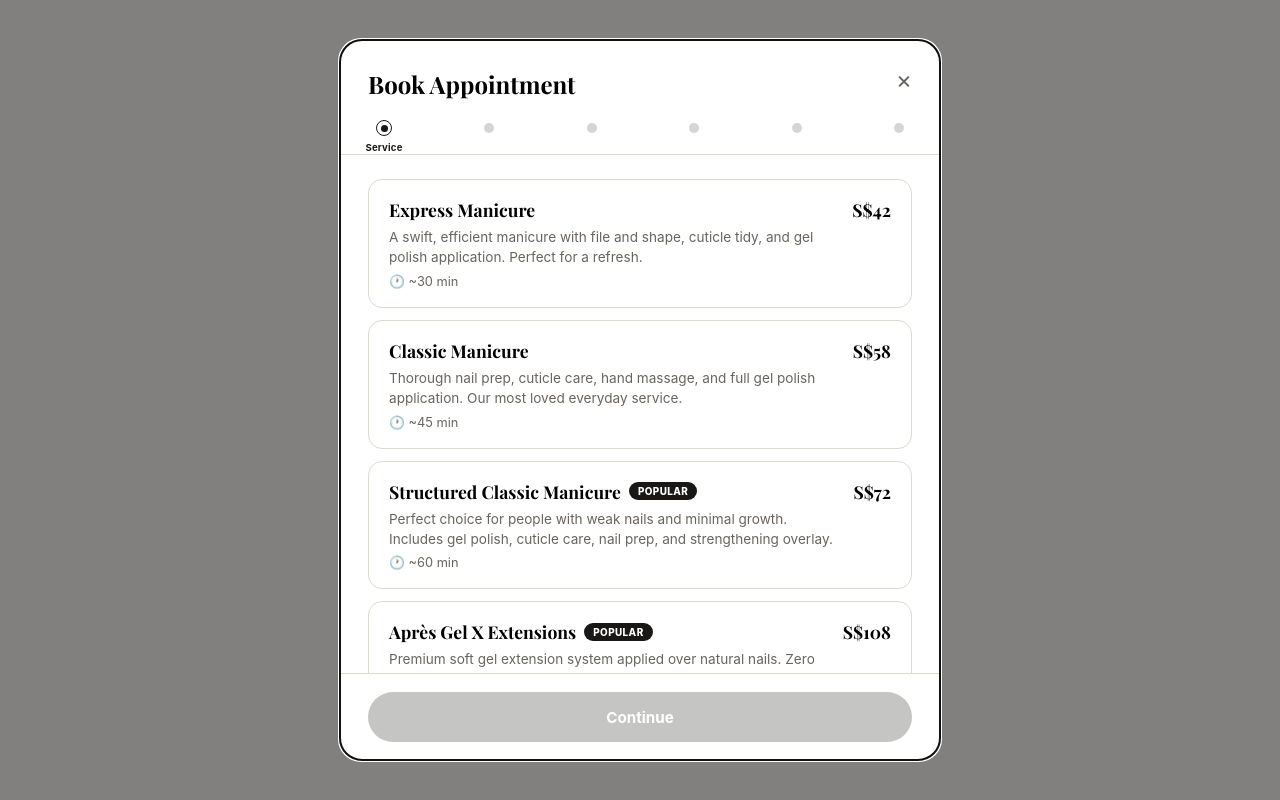
Test: BookingModal — step gating (canContinue) › cannot continue from step 0 until a service is selected
Expected: the button "Continue" is disabled, x1=368 y1=692 x2=912 y2=742
Click the button "Classic Manicure" at {"x": 640, "y": 384}, box x1=368 y1=320 x2=912 y2=449
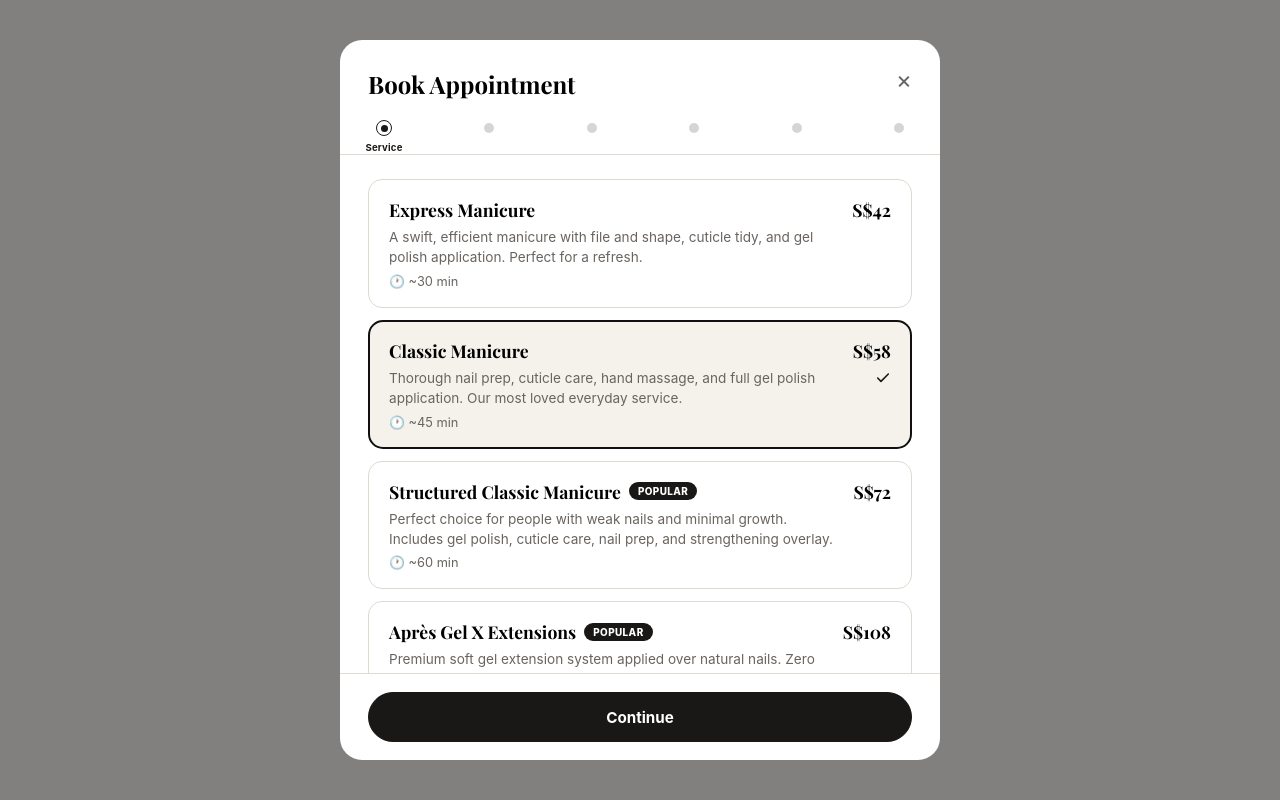
Expected: the button "Continue" is enabled, x1=368 y1=692 x2=912 y2=742
